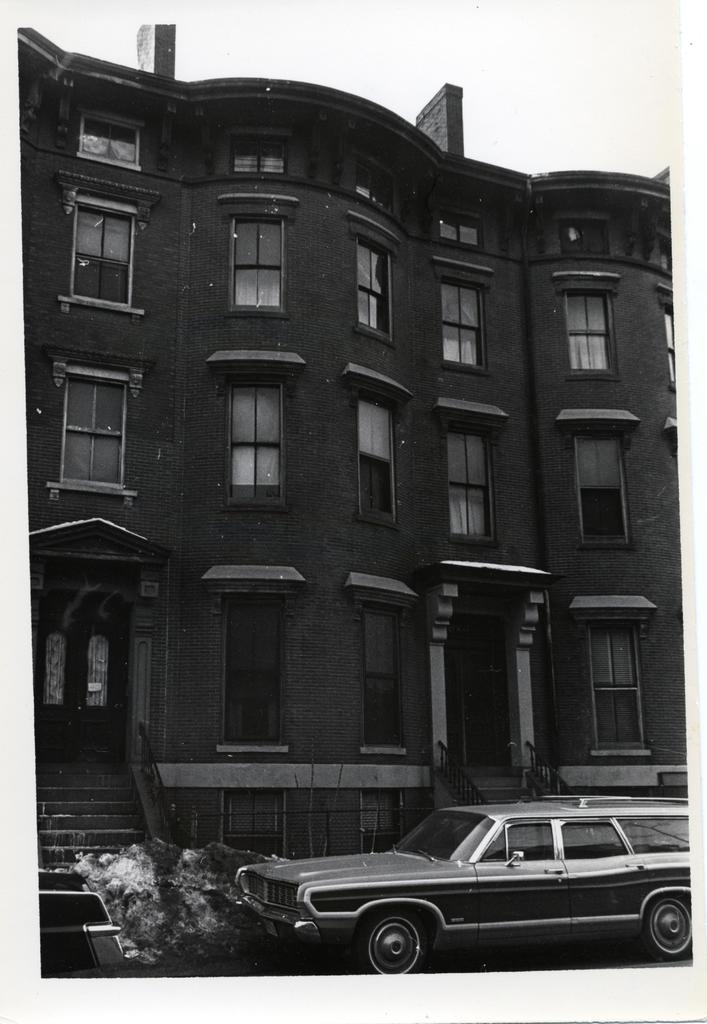cars: (240, 812, 693, 978), (37, 868, 126, 975)
